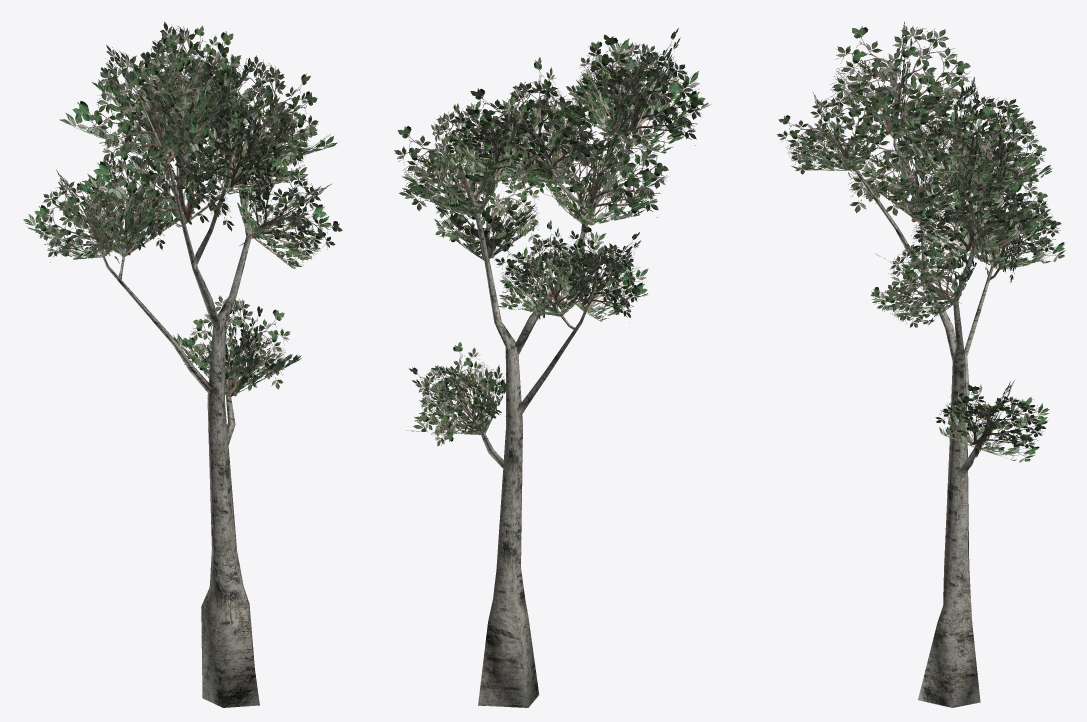
File: decd_whitebirchtreeleaves_a2_l0.fbx
3 views of the same model, side by side, from view 1: azimuth 30°, elevation 25°; view 2: azimuth 150°, elevation 25°; view 3: azimuth 270°, elevation 25° (orthographic). The views are drawn at different scales.
Parts seen in each view (by area): view 1: mesh_node; view 2: mesh_node; view 3: mesh_node.
Part boxes in pixels (box(x1,y1,x2,y2)): mesh_node: box(23, 21, 342, 707); mesh_node: box(394, 28, 710, 707); mesh_node: box(777, 22, 1065, 707).
Size of the model in its own units: 7.8 by 17.79 by 7.85.
